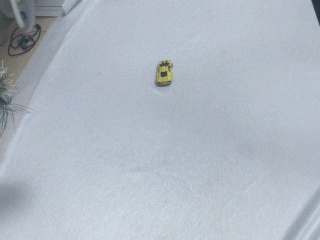toy_car: (155, 60, 173, 86)
